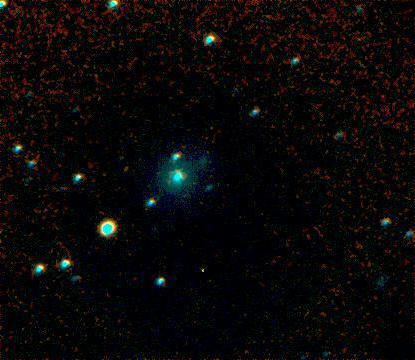star: (113, 155, 143, 185)
